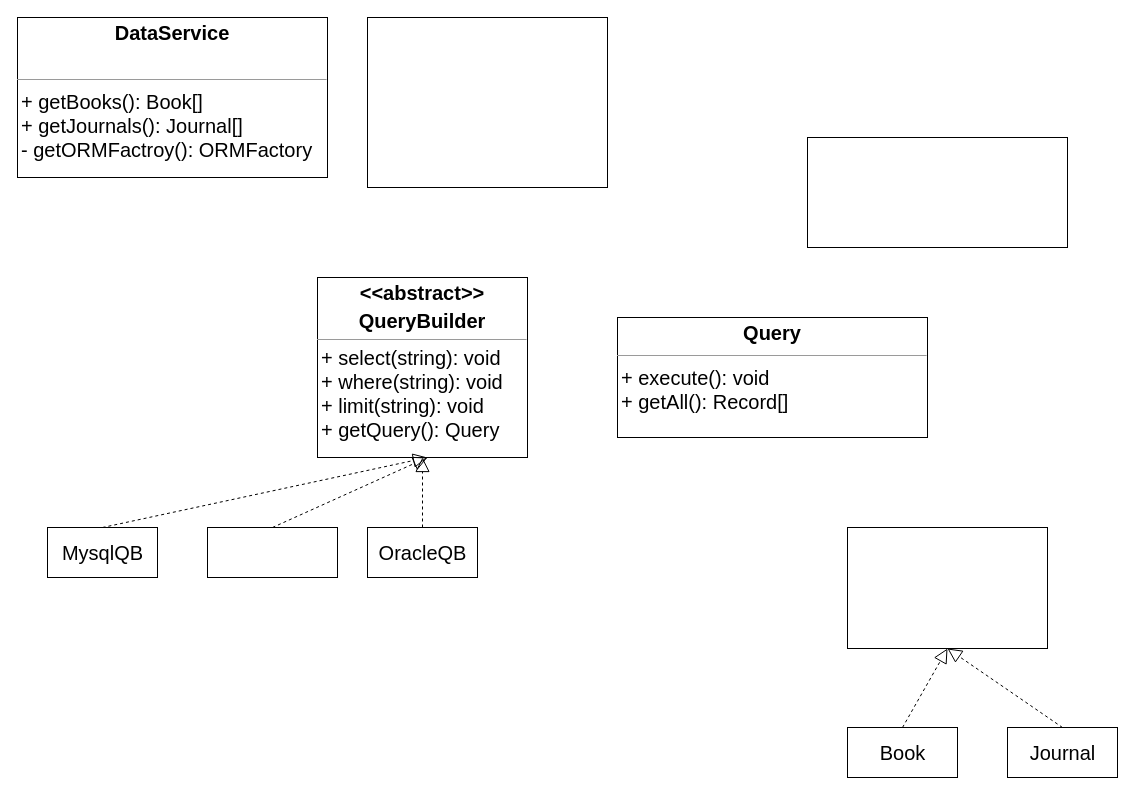
Some shapes in this 1135 by 795 pixel diagram are drawn without their labels. The shapes that lost their labels are listed below. From the top down, each one's centre as x and y in pixels, then its label:
At pixel 487 102: "<<abstract>> ORMFactory + getQueryBuilder() + getConnection() + getRecord() ?".
At pixel 937 192: "<<abstract>> DatabaseConnection + runQuery(Query): mixed".
At pixel 272 552: "PostgresQB".
At pixel 947 587: "<<abstract>> Record + method(): Type".
